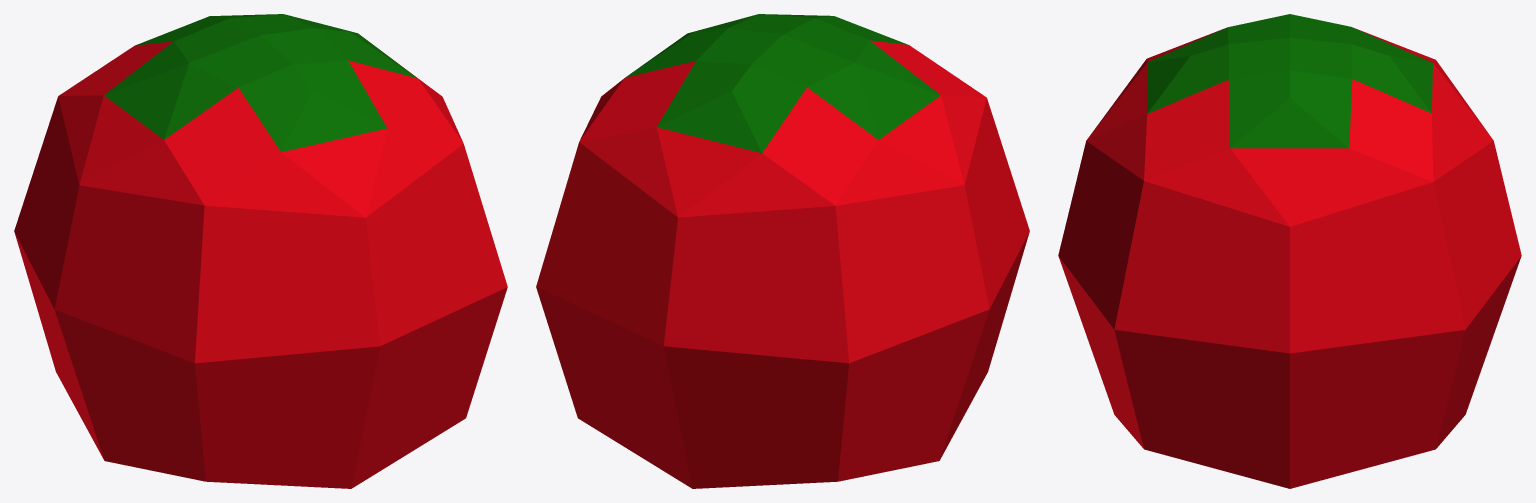
Rendered from tomato.fbx.
The picture shows the model from 3 angles, left to right: view 1: azimuth 30°, elevation 25°; view 2: azimuth 150°, elevation 25°; view 3: azimuth 270°, elevation 25°; orthographic projection. The views are drawn at different scales.
Parts seen in each view (by area): view 1: Cube; view 2: Cube; view 3: Cube.
Part boxes in pixels (x1,y1,x2,y2): Cube: (14, 14, 507, 488); Cube: (536, 14, 1029, 488); Cube: (1058, 14, 1521, 488).
Size of the model in its own units: 207 by 211 by 207.
